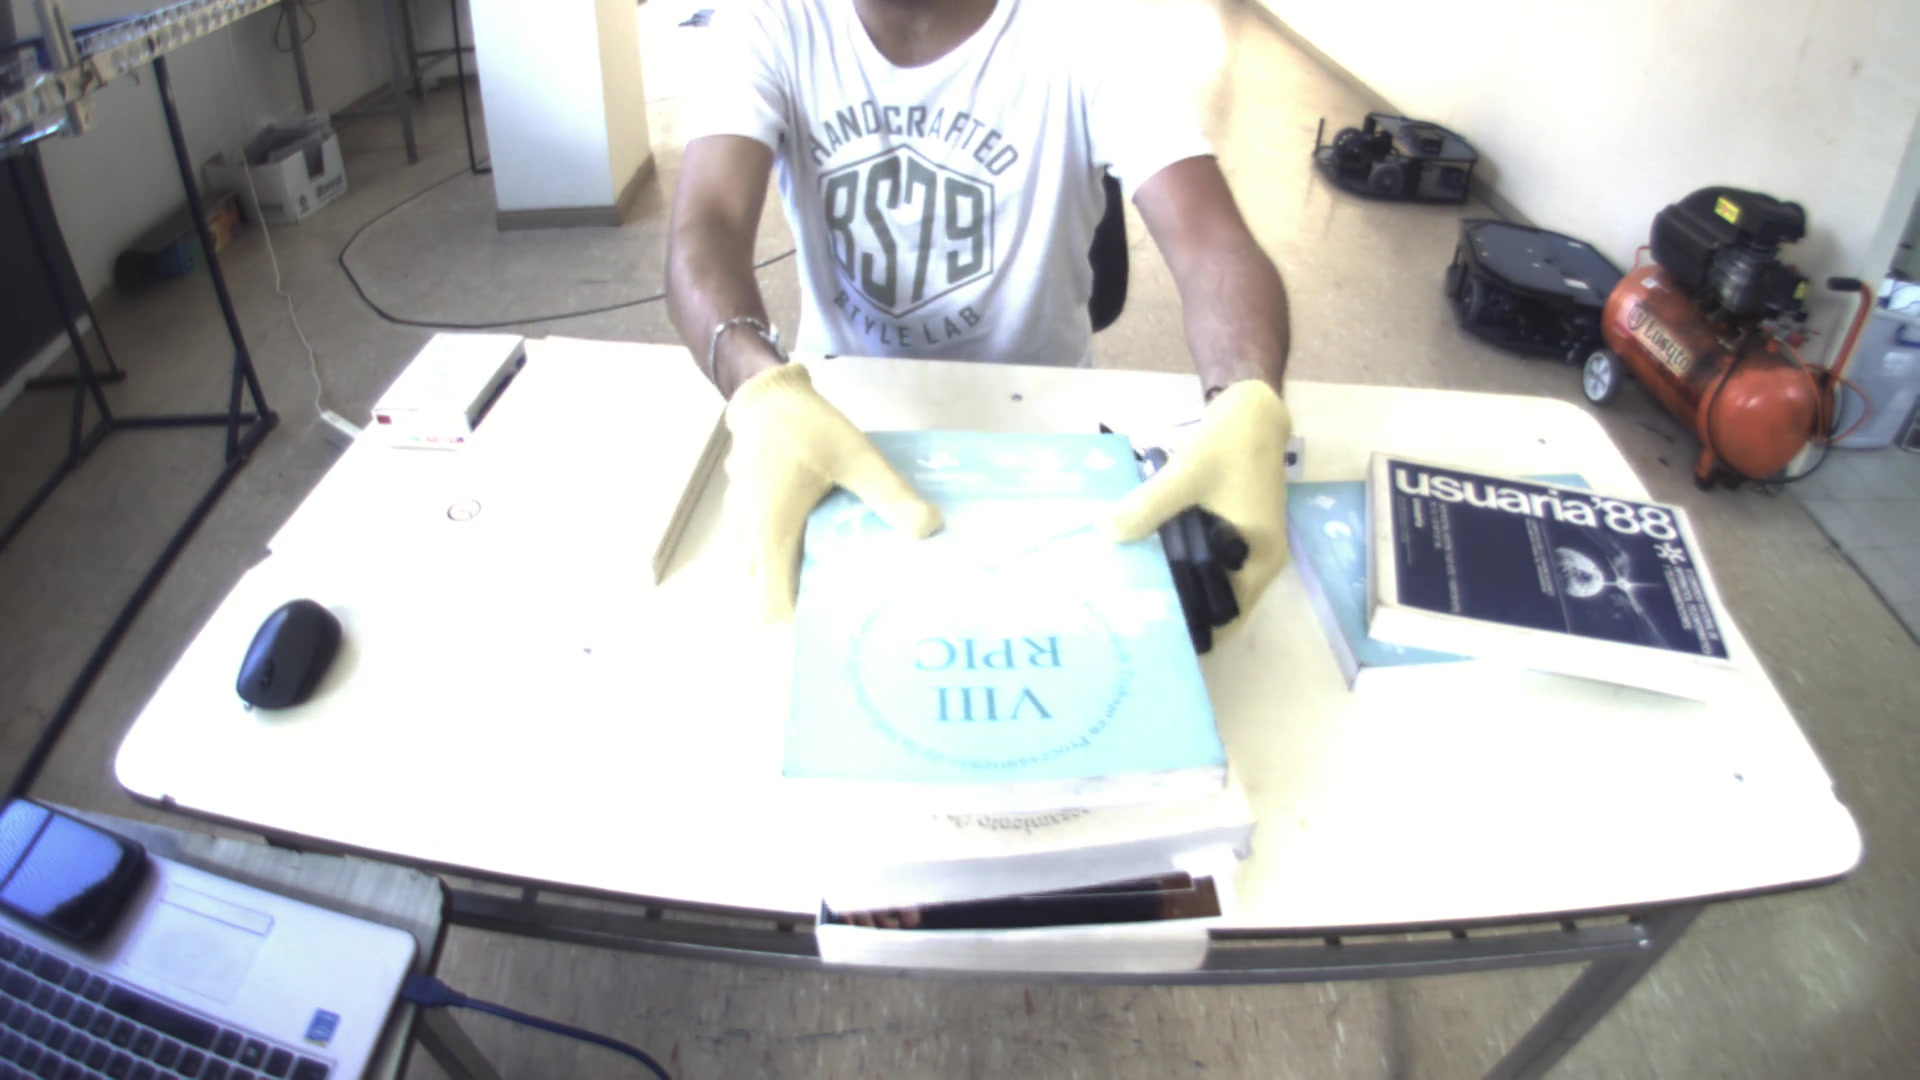hand: (723, 345, 938, 626), (1098, 376, 1305, 568)
